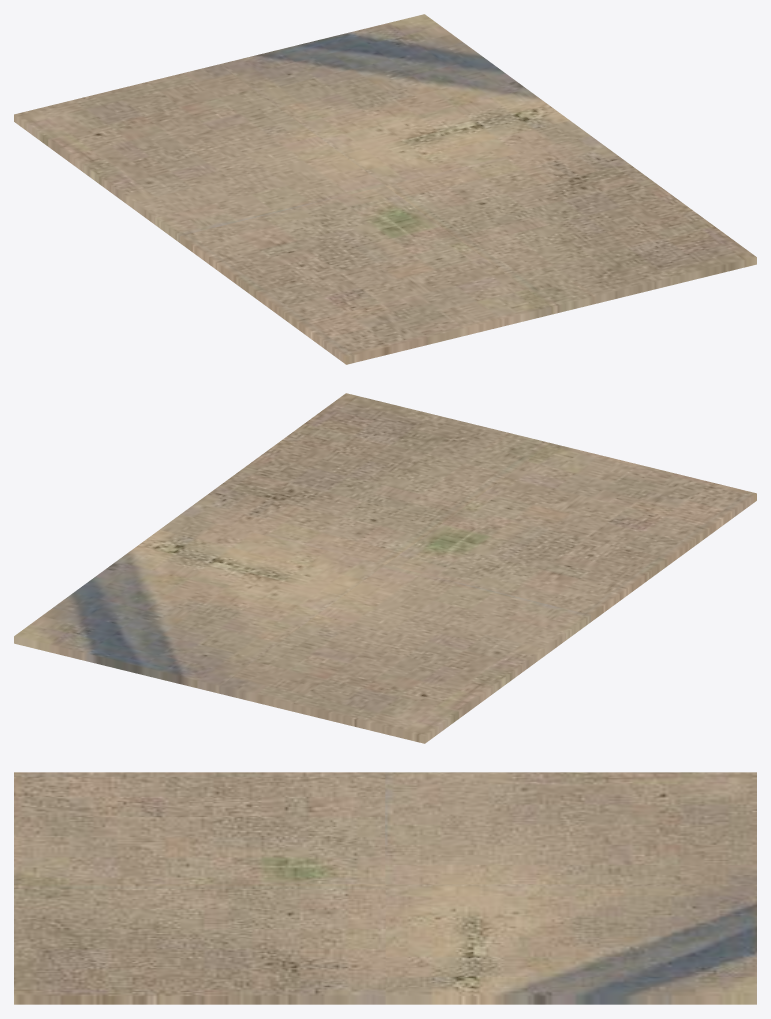
3 views of the same model, one above another, from view 1: azimuth 30°, elevation 25°; view 2: azimuth 150°, elevation 25°; view 3: azimuth 270°, elevation 25° (orthographic). The views are drawn at different scales.
Visible parts, largest first — view 1: 30436272704370424431_0; view 2: 30436272704370424431_0; view 3: 30436272704370424431_0.
Part boxes in pixels (x1,y1,x2,y2): 30436272704370424431_0: [14, 14, 756, 364]; 30436272704370424431_0: [14, 393, 756, 743]; 30436272704370424431_0: [14, 772, 756, 1004].
Size of the model in its own units: 27.32 by 0.4688 by 38.26.
1 material, 1 textured.
